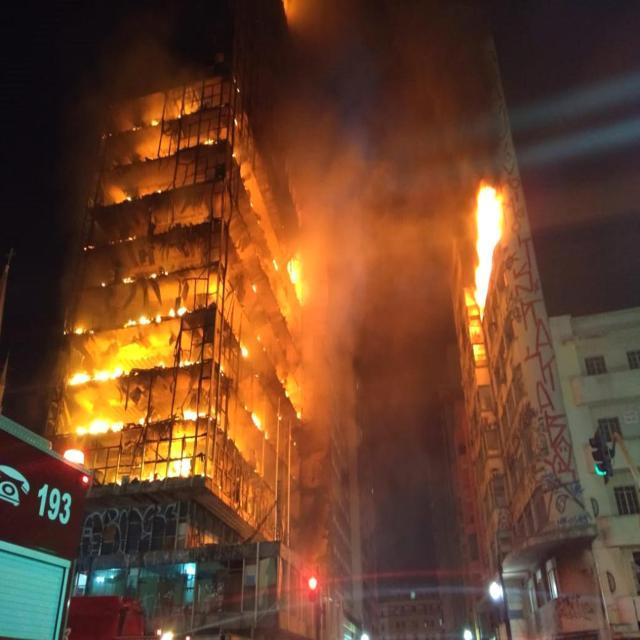Fire: (55, 54, 301, 524), (470, 176, 508, 324)
Smoke: (312, 0, 466, 640)
